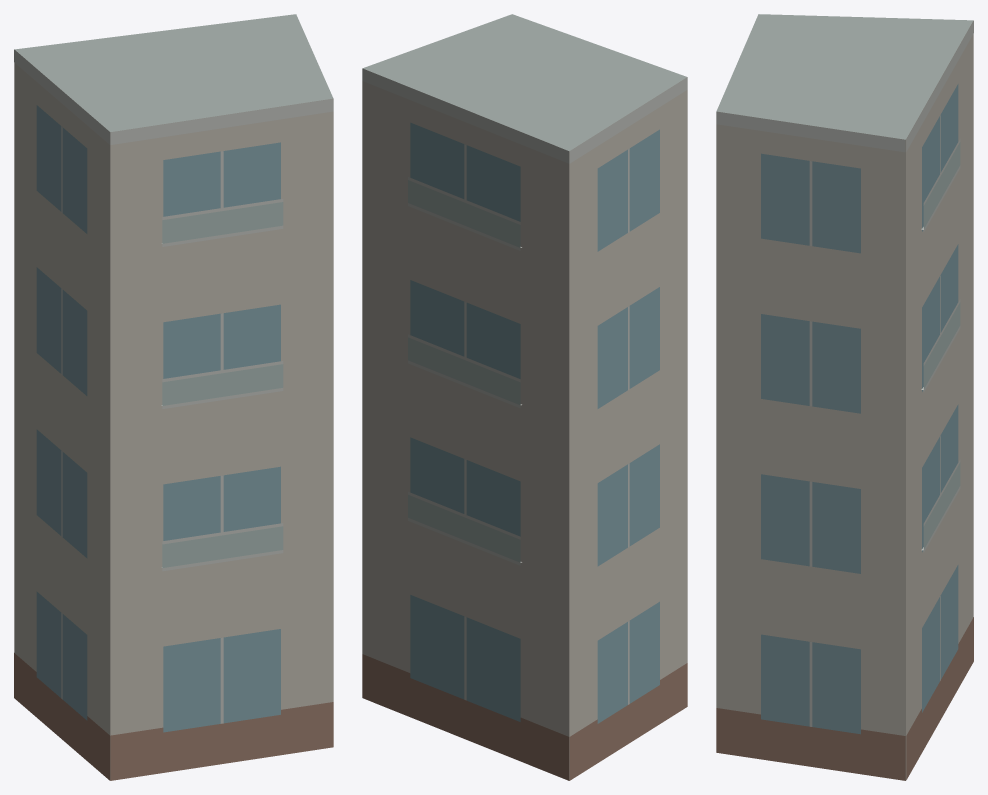
File: survey-upis-32525898.glb
3 views of the same model, side by side, from view 1: azimuth 30°, elevation 25°; view 2: azimuth 150°, elevation 25°; view 3: azimuth 270°, elevation 25° (orthographic). The views are drawn at different scales.
Visible parts, largest first — view 1: survey-upis-32525898.tmp; view 2: survey-upis-32525898.tmp; view 3: survey-upis-32525898.tmp.
Boxes of the visible parts, left/top/right/bottom form: survey-upis-32525898.tmp: left=14, top=14, right=333, bottom=780; survey-upis-32525898.tmp: left=362, top=14, right=687, bottom=780; survey-upis-32525898.tmp: left=716, top=14, right=973, bottom=780.
Bounding box in the file's own units: 5.14 × 12.2 × 4.45.
